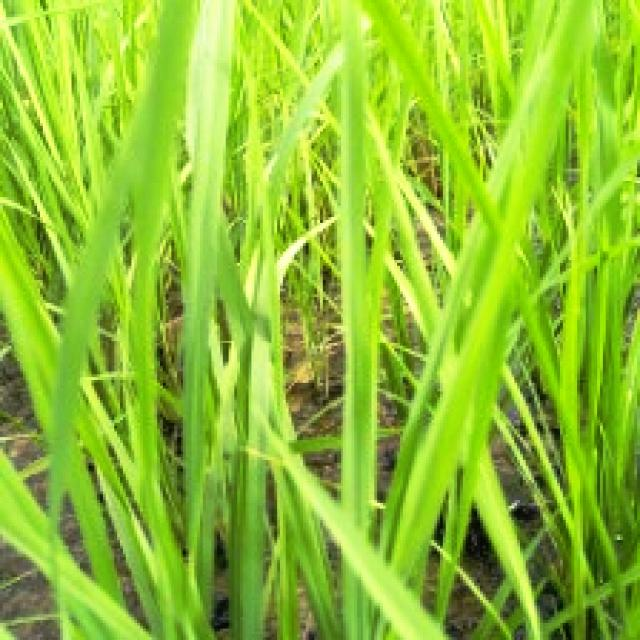health: (183, 0, 235, 622)
